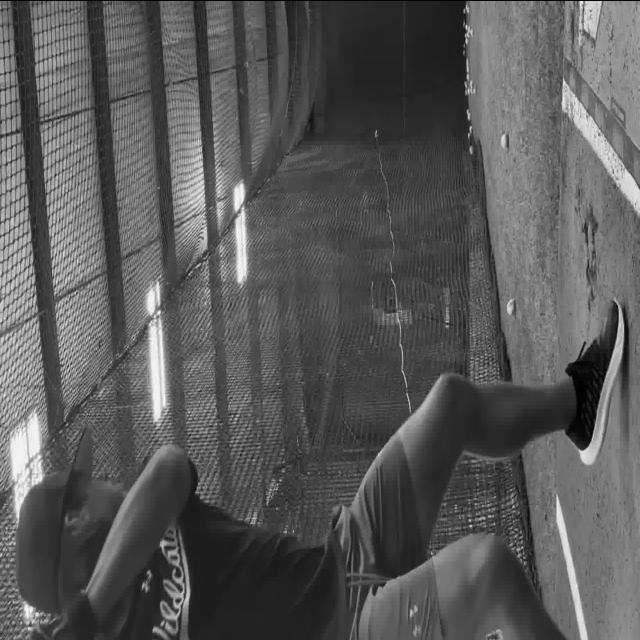baseball: (506, 298, 516, 316), (501, 133, 508, 149)
shoe: (564, 298, 626, 466)
